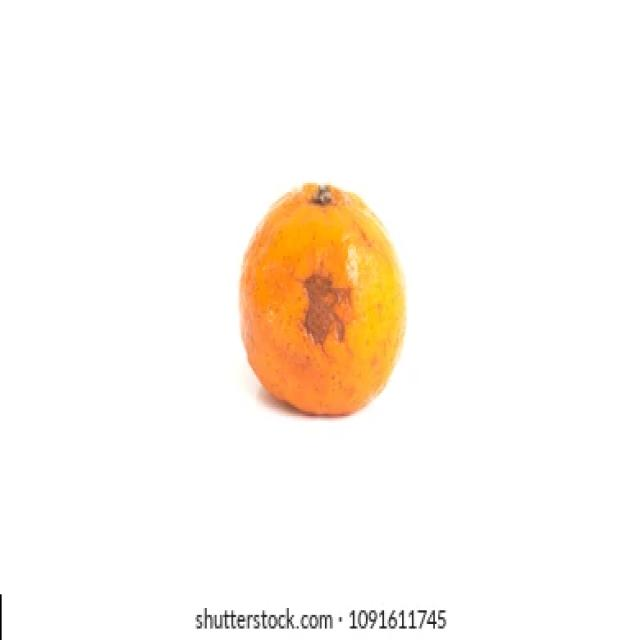overripe: (232, 167, 409, 422)
